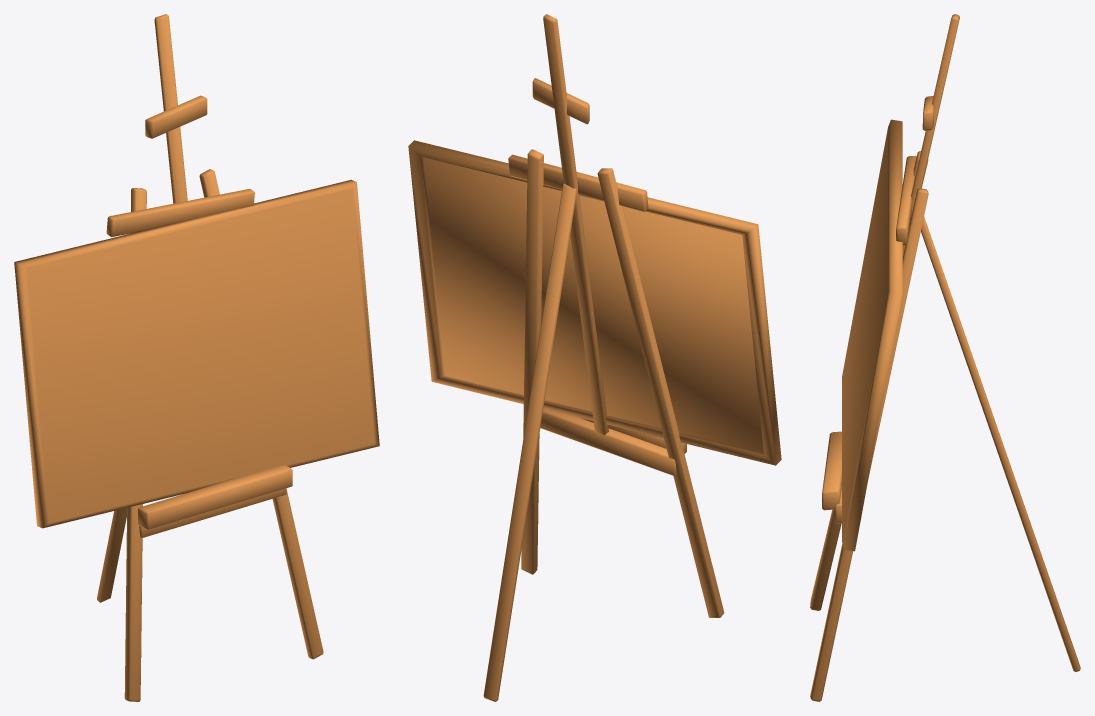
File: props_chevalet.fbx
The picture shows the model from 3 angles, left to right: view 1: azimuth 30°, elevation 25°; view 2: azimuth 150°, elevation 25°; view 3: azimuth 270°, elevation 25°; orthographic projection. The views are drawn at different scales.
Parts seen in each view (by area): view 1: Cube.001; view 2: Cube.001; view 3: Cube.001.
Boxes of the visible parts, x1,y1,x2,y2 form: Cube.001: (14,14,379,701); Cube.001: (408,14,781,701); Cube.001: (810,14,1080,701).
Size of the model in its own units: 160 by 284 by 106.
